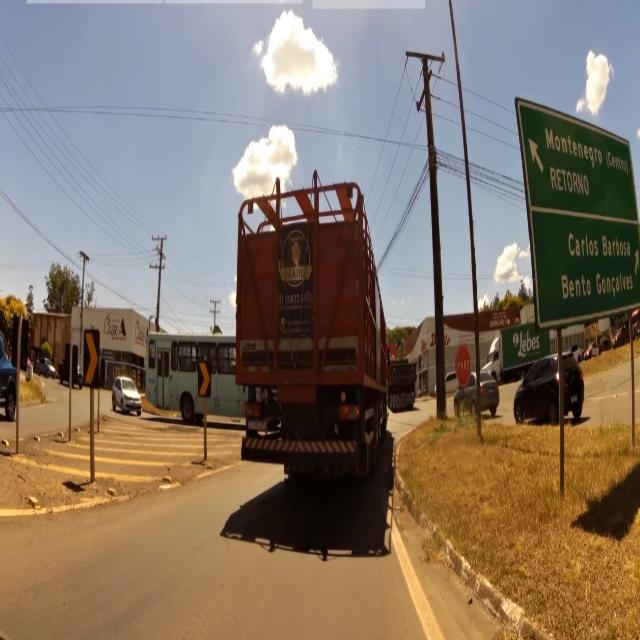I-4: (520, 97, 640, 316)
R-1: (456, 343, 472, 385)
